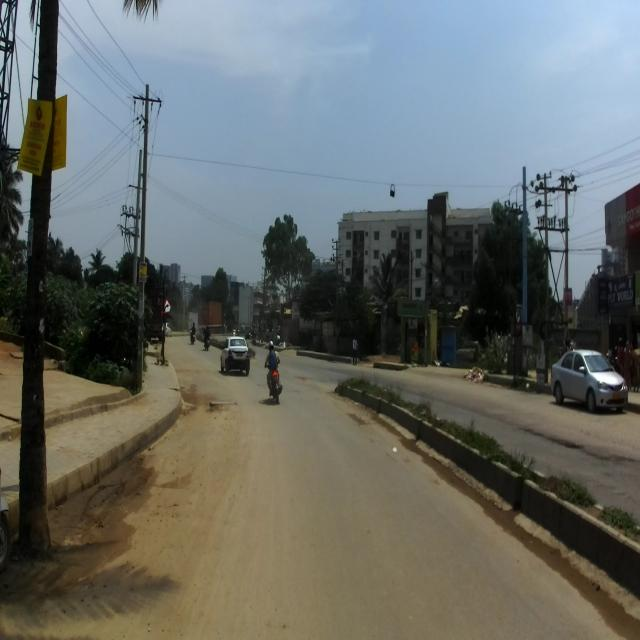Car_Maruti-Suzuki: (220, 336, 251, 376)
Car_Toyota: (550, 350, 628, 411)
motorcycle_HeroHonda: (263, 358, 282, 404)
